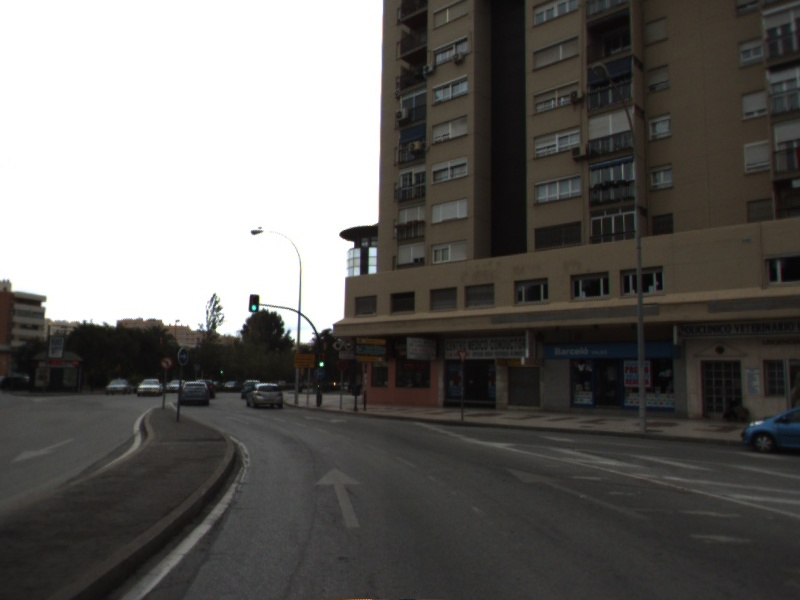STRAIGHT: (504, 465, 652, 522), (312, 464, 364, 530)
